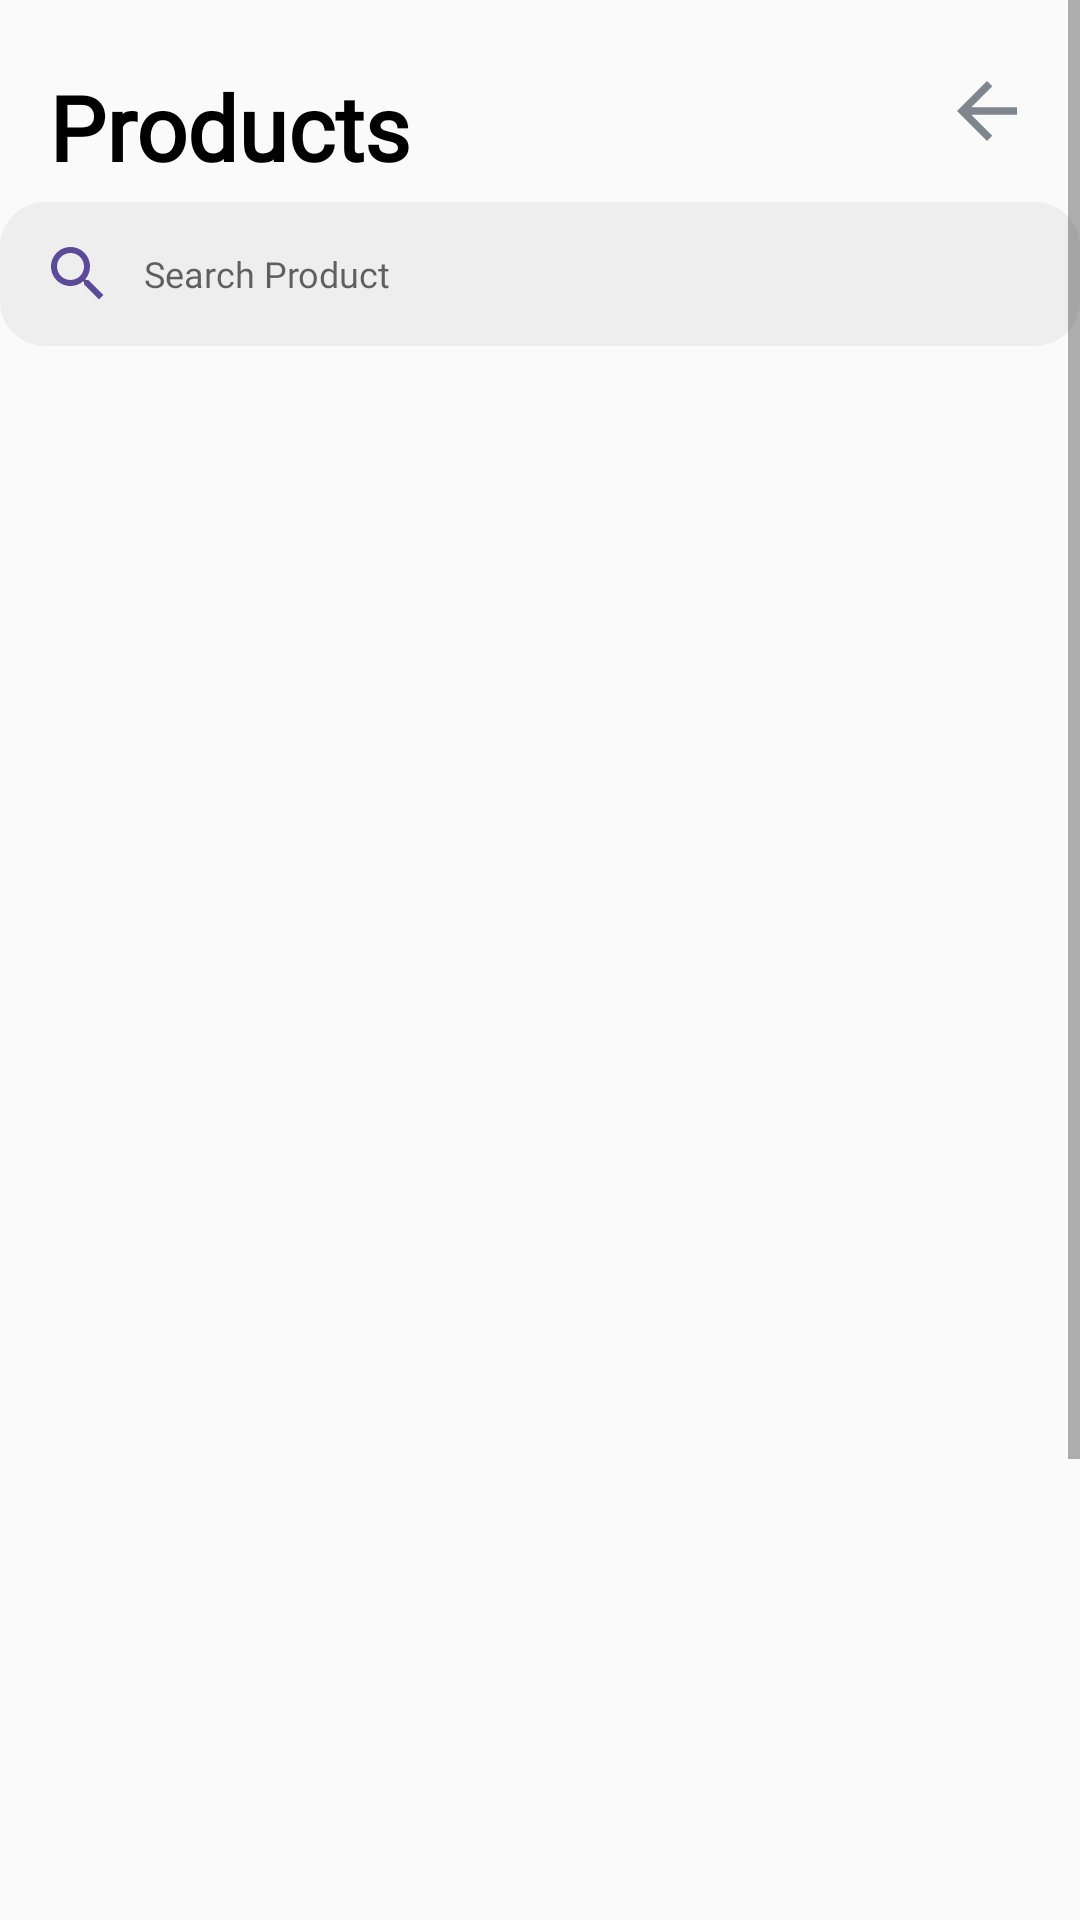

Icon bounding boxes for this 1080w x 1920h phone screenshot, format (left=x1, top=y1, right=x2, bottom=y2):
arrow back: (left=957, top=81, right=1017, bottom=141)
